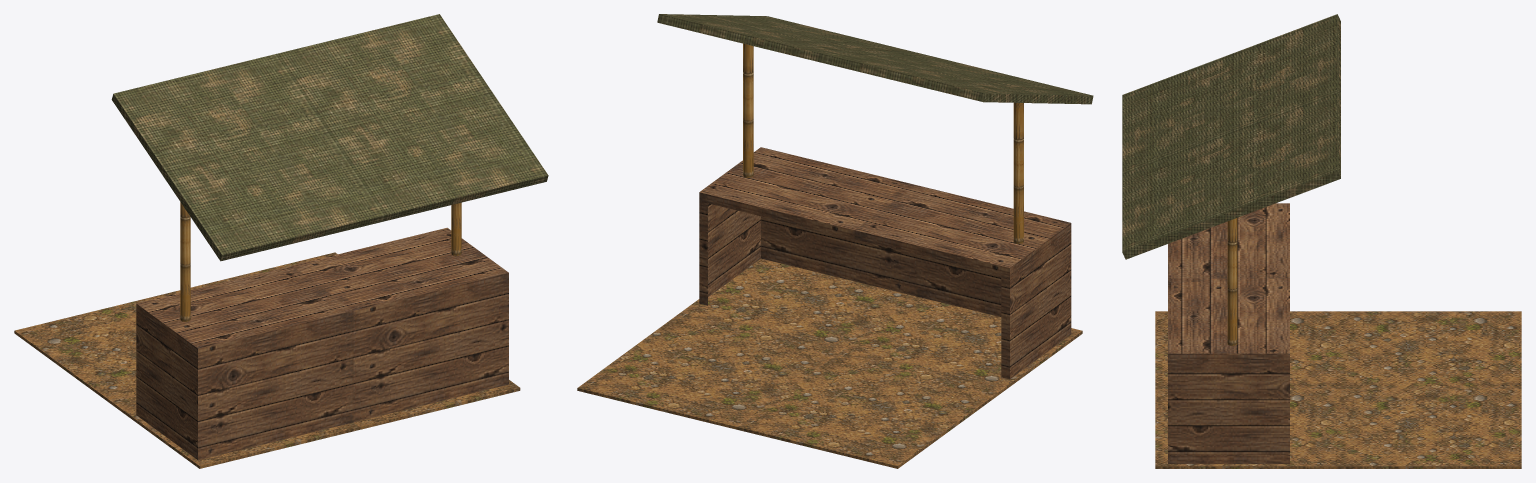
File: Jungle_Cafe_Stand.obj
The picture shows the model from 3 angles, left to right: view 1: azimuth 30°, elevation 25°; view 2: azimuth 150°, elevation 25°; view 3: azimuth 270°, elevation 25°; orthographic projection.
Parts seen in each view (by area): view 1: Cube.003, Cube.001, Cube, Cube.002; view 2: Cube, Cube.001, Cube.003, Cube.002; view 3: Cube, Cube.003, Cube.001, Cube.002.
Boxes of the visible parts, x1,y1,x2,y2 form: Cube.003: (111,14,548,261); Cube.001: (136,227,508,460); Cube: (14,252,520,468); Cube.002: (180,202,461,321); Cube: (577,258,1082,468); Cube.001: (699,147,1071,379); Cube.003: (657,14,1093,104); Cube.002: (743,43,1023,243); Cube: (1155,311,1521,468); Cube.003: (1122,14,1340,259); Cube.001: (1168,203,1289,463); Cube.002: (1227,218,1237,345).
Size of the model in its own units: 6.21 by 5.48 by 6.54.
